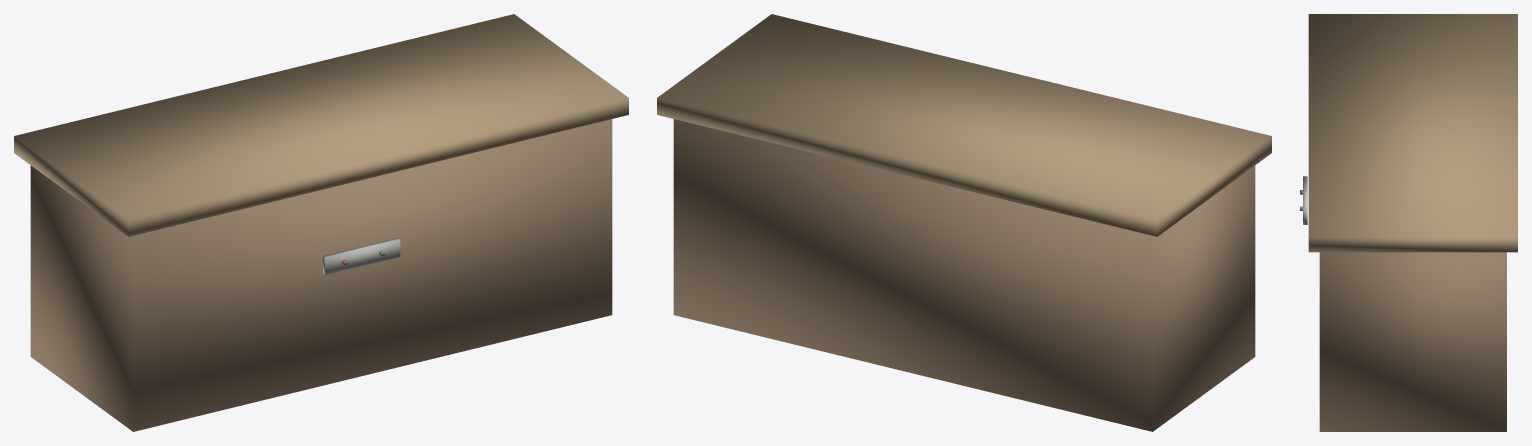
Rendered from funeral_reception_counter__squat.glb.
3 renders of one model, left to right at view 1: azimuth 30°, elevation 25°; view 2: azimuth 150°, elevation 25°; view 3: azimuth 270°, elevation 25°, orthographic. The views are drawn at different scales.
Parts seen in each view (by area): view 1: world; view 2: world; view 3: world.
Part boxes in pixels (x1,y1,x2,y2): world: [14, 14, 628, 431]; world: [657, 14, 1271, 431]; world: [1300, 14, 1517, 431].
Bounding box in the file's own units: 2.07 × 0.8652 × 0.8543.
